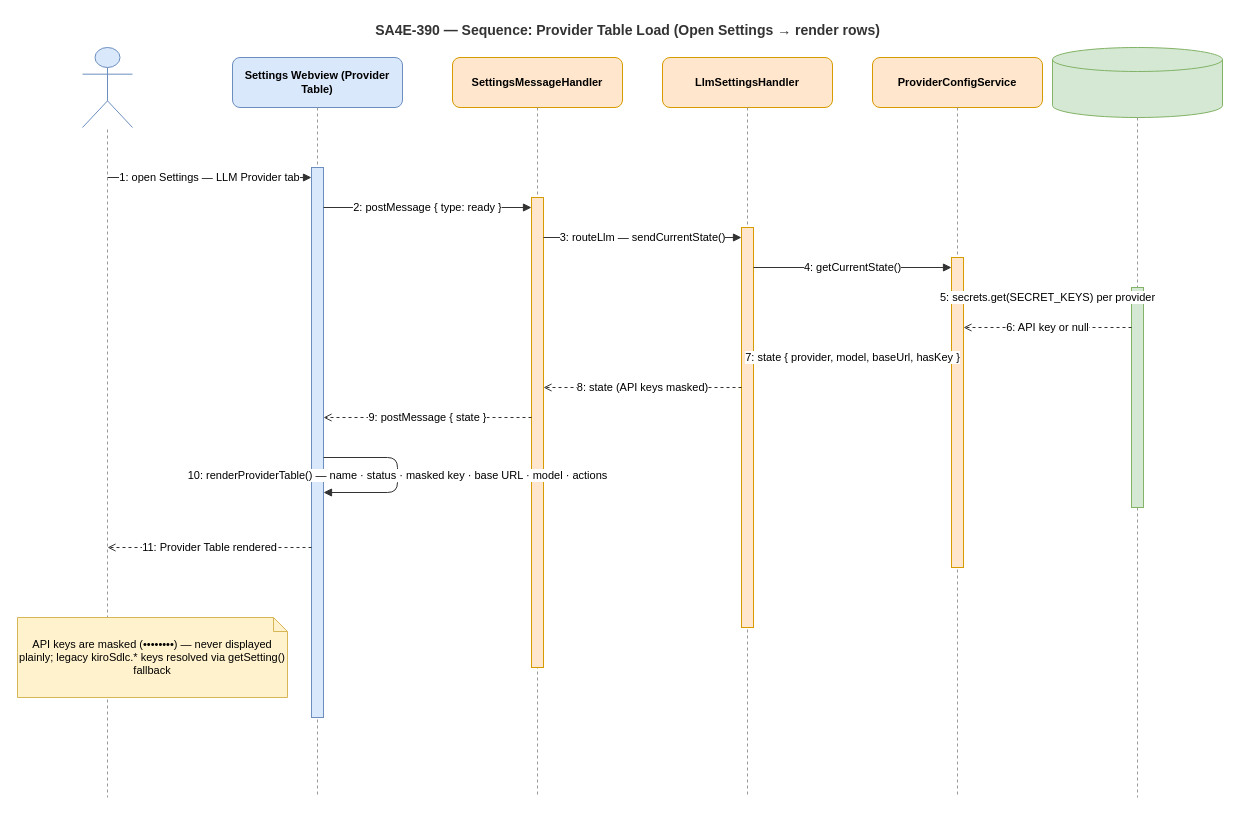
Some shapes in this 1240 by 816 pixel diagram are drawn without their labels. The shapes that lost their labels are listed below. From the top down, each one's centre as x and y in pixels, then its label:
At point 107,87: "Developer".
At point 1137,82: "SecretStorage (SECRET_KEYS)".
